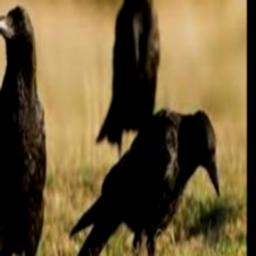Crow: (69, 107, 221, 256), (0, 5, 47, 256), (96, 0, 159, 163)
